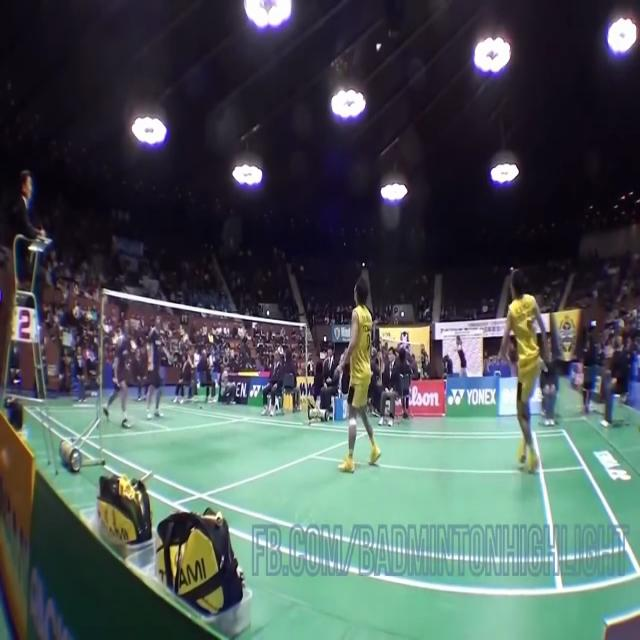shuttlecock: (376, 44, 382, 52)
